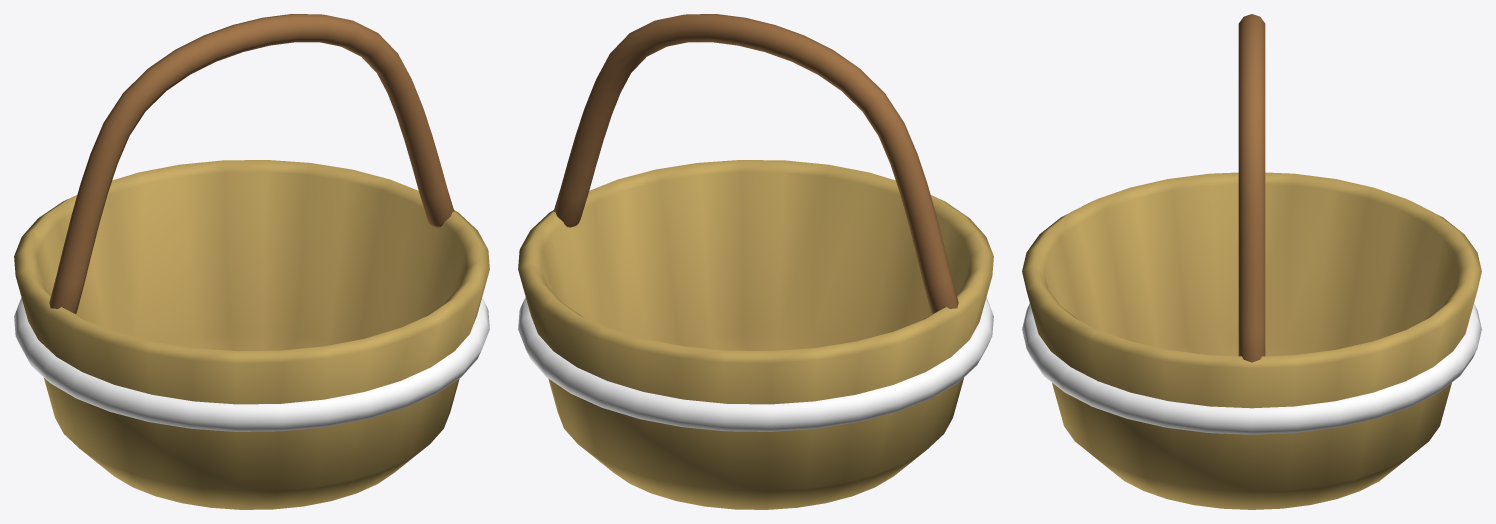
File: sammelkorb.glb
3 renders of one model, left to right at view 1: azimuth 30°, elevation 25°; view 2: azimuth 150°, elevation 25°; view 3: azimuth 270°, elevation 25°, orthographic. The views are drawn at different scales.
Visible parts, largest first — view 1: sammelkorb-matt, sammelkorb-akzent; view 2: sammelkorb-matt, sammelkorb-akzent; view 3: sammelkorb-matt, sammelkorb-akzent.
Part boxes in pixels (left/top/right/bottom): sammelkorb-matt: left=14, top=14, right=489, bottom=509; sammelkorb-akzent: left=14, top=297, right=489, bottom=431; sammelkorb-matt: left=518, top=14, right=993, bottom=509; sammelkorb-akzent: left=518, top=297, right=993, bottom=431; sammelkorb-matt: left=1022, top=14, right=1481, bottom=509; sammelkorb-akzent: left=1022, top=303, right=1481, bottom=434.
Size of the model in its own units: 0.72 by 0.7013 by 0.72.
